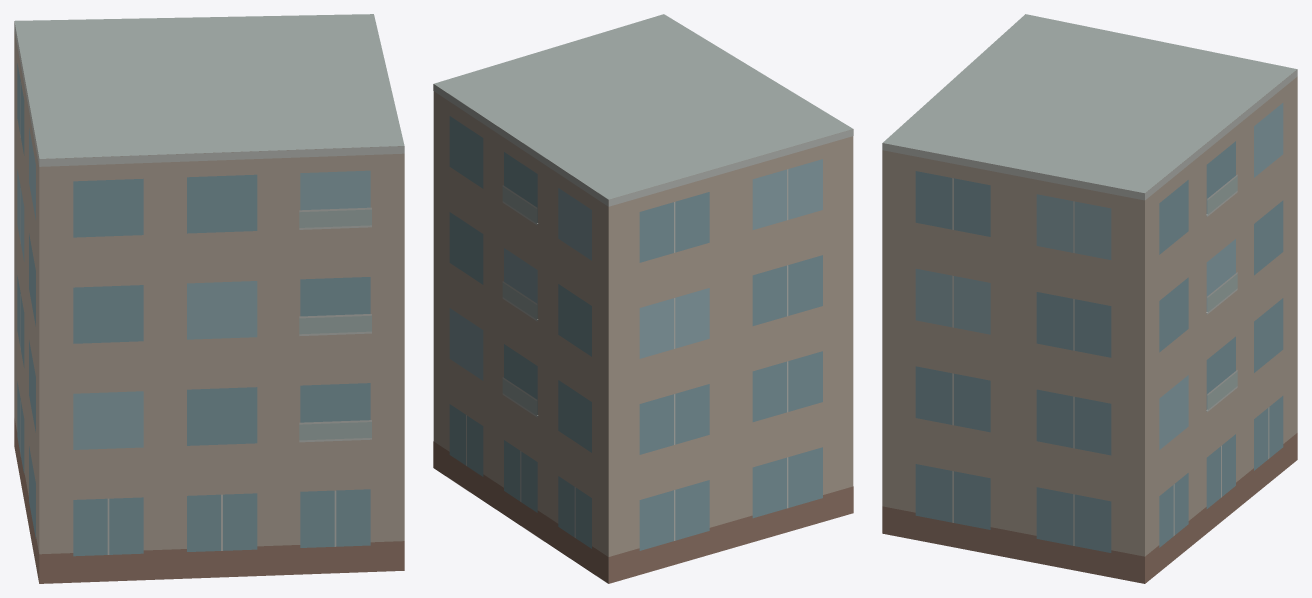
The model's file is survey-upis-33026156.glb.
The picture shows the model from 3 angles, left to right: view 1: azimuth 30°, elevation 25°; view 2: azimuth 150°, elevation 25°; view 3: azimuth 270°, elevation 25°; orthographic projection. The views are drawn at different scales.
Parts seen in each view (by area): view 1: survey-upis-33026156.tmp; view 2: survey-upis-33026156.tmp; view 3: survey-upis-33026156.tmp.
Part boxes in pixels (bbox=[...]): survey-upis-33026156.tmp: bbox=[14, 14, 404, 583]; survey-upis-33026156.tmp: bbox=[433, 14, 853, 583]; survey-upis-33026156.tmp: bbox=[882, 14, 1297, 583].
Size of the model in its own units: 13 by 13.2 by 12.72.
